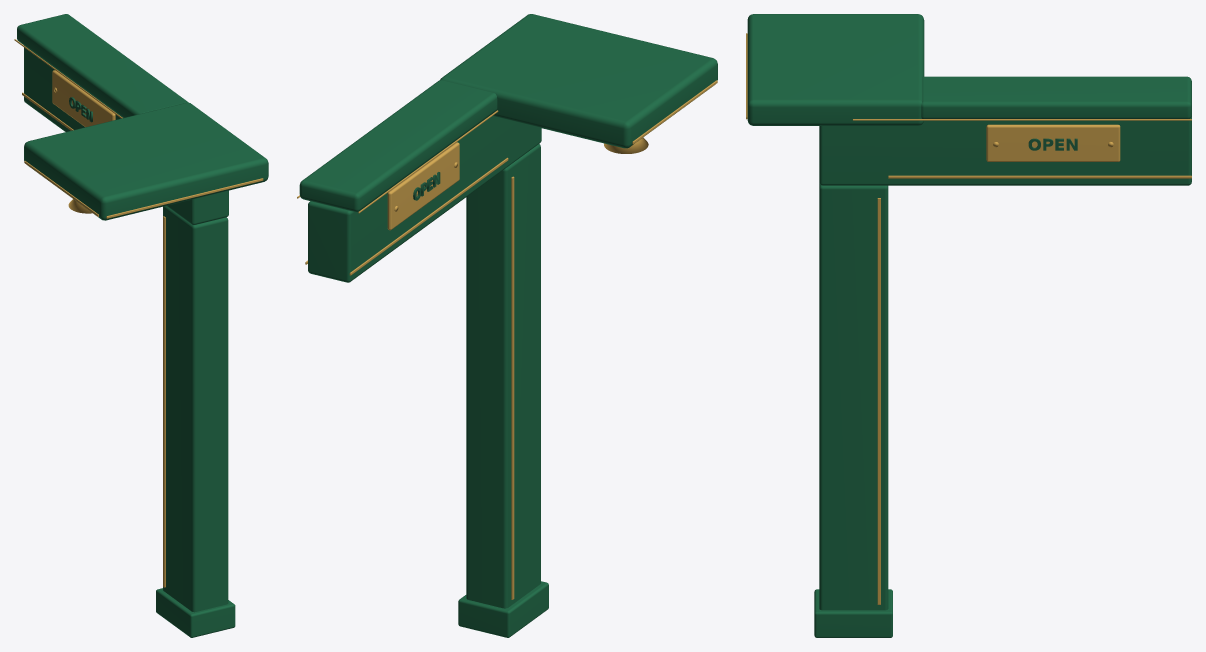
File: storefront_door.glb
3 renders of one model, left to right at view 1: azimuth 30°, elevation 25°; view 2: azimuth 150°, elevation 25°; view 3: azimuth 270°, elevation 25°, orthographic. The views are drawn at different scales.
Parts seen in each view (by area): view 1: Post, Canopy, HeaderCap, Header, PostBase, PlaqueOut, PostBead-0.008, CanopyEdgeSide; view 2: Post, Canopy, HeaderCap, Header, PostBase, PlaqueOut, PostBead-0.008, HeaderTrim-0.006; view 3: Post, Canopy, Header, HeaderCap, PlaqueIn, PostBase, PostBead0.2, HeaderTrim0.2, CapTrim0.24000000000000002.
Part boxes in pixels (x1,y1,x2,y2): Post: (163,206,228,612); Canopy: (24,102,268,220); HeaderCap: (17,14,188,117); Header: (24,45,228,224); PostBase: (156,588,235,637); PlaqueOut: (52,70,115,127); PostBead-0.008: (163,216,165,587); CanopyEdgeSide: (106,178,263,218); Post: (466,144,540,608); Canopy: (440,14,717,148); HeaderCap: (299,80,497,211); Header: (308,116,541,282); PostBase: (458,581,548,637); PlaqueOut: (387,142,459,230); PostBead-0.008: (511,176,514,599); HeaderTrim-0.006: (349,157,508,275); Post: (819,183,888,610); Canopy: (747,14,924,125); Header: (819,115,1191,185); HeaderCap: (921,76,1191,118); PlaqueIn: (986,124,1120,161); PostBase: (814,589,892,637); PostBead0.2: (877,198,880,604); HeaderTrim0.2: (888,175,1191,178); CapTrim0.24000000000000002: (852,119,1191,120).
Size of the model in its own units: 0.901 by 2.49 by 1.86.
